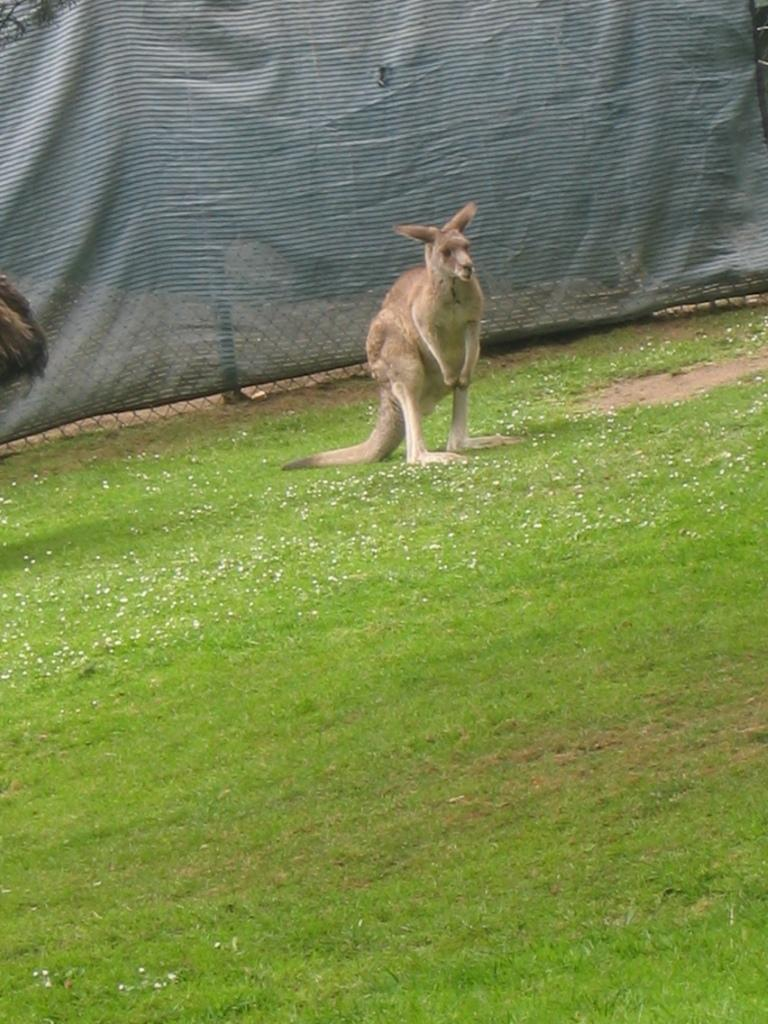kangaroo: (278, 202, 518, 468)
